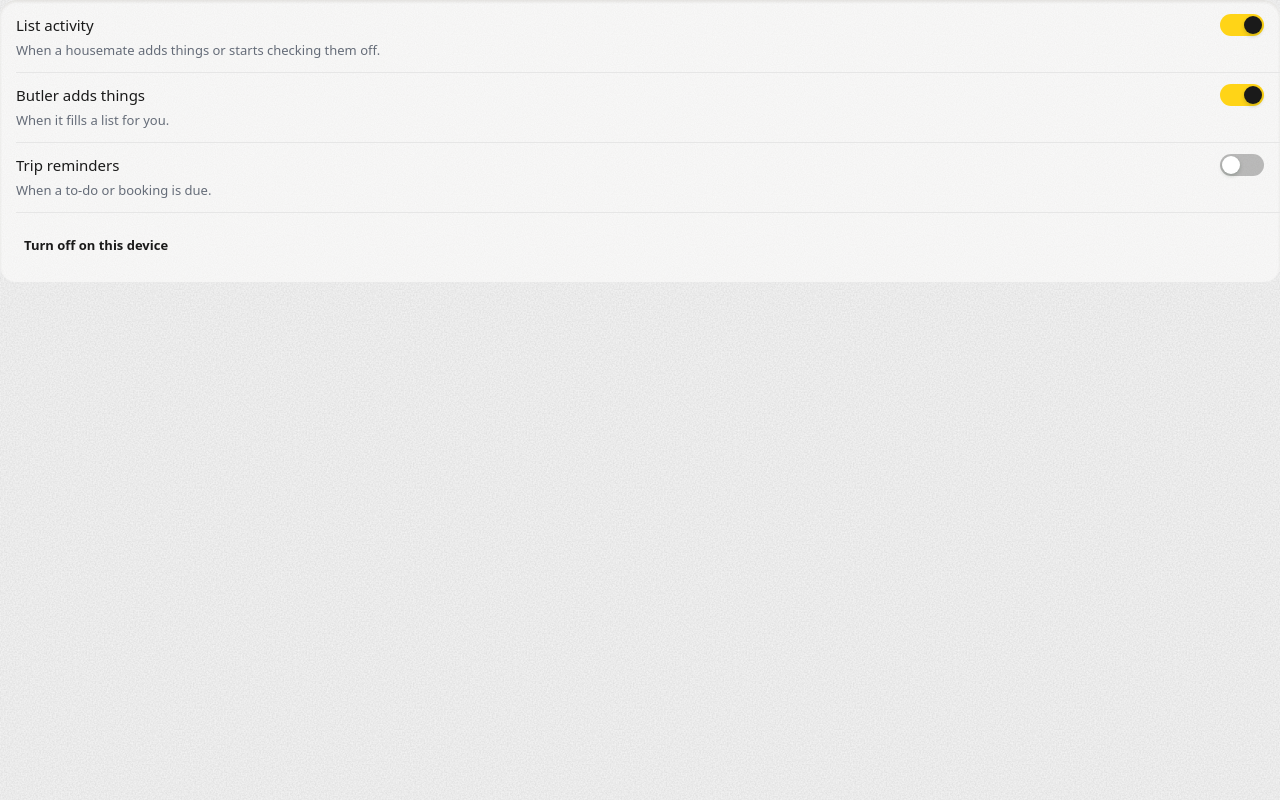
it: Notifications in Account settings › puts a kind back when the server says no
This screenshot has width=1280, height=800.
Click the switch named "Butler adds things" in the row of "Butler adds things" at (1242, 95), box [1220,84,1264,106]
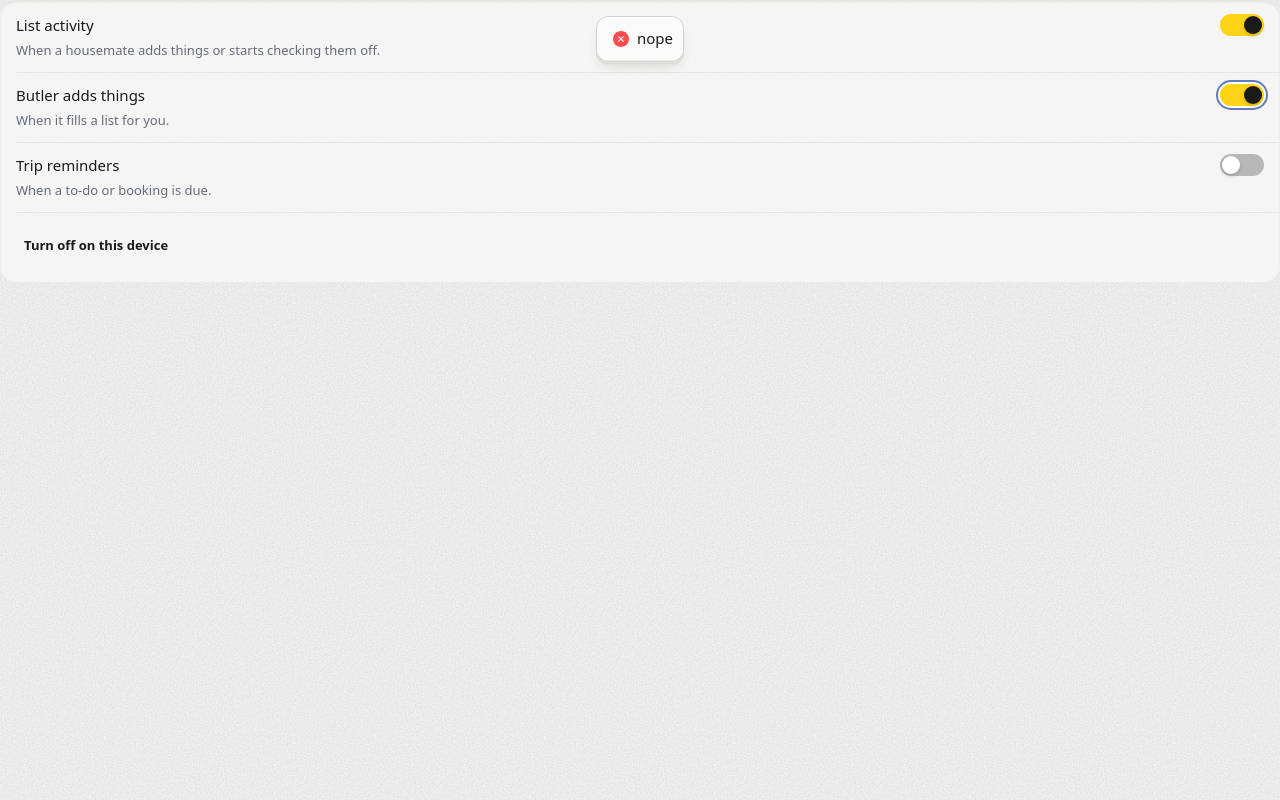
Expected: the text "nope" is shown, [637,27,673,51]
